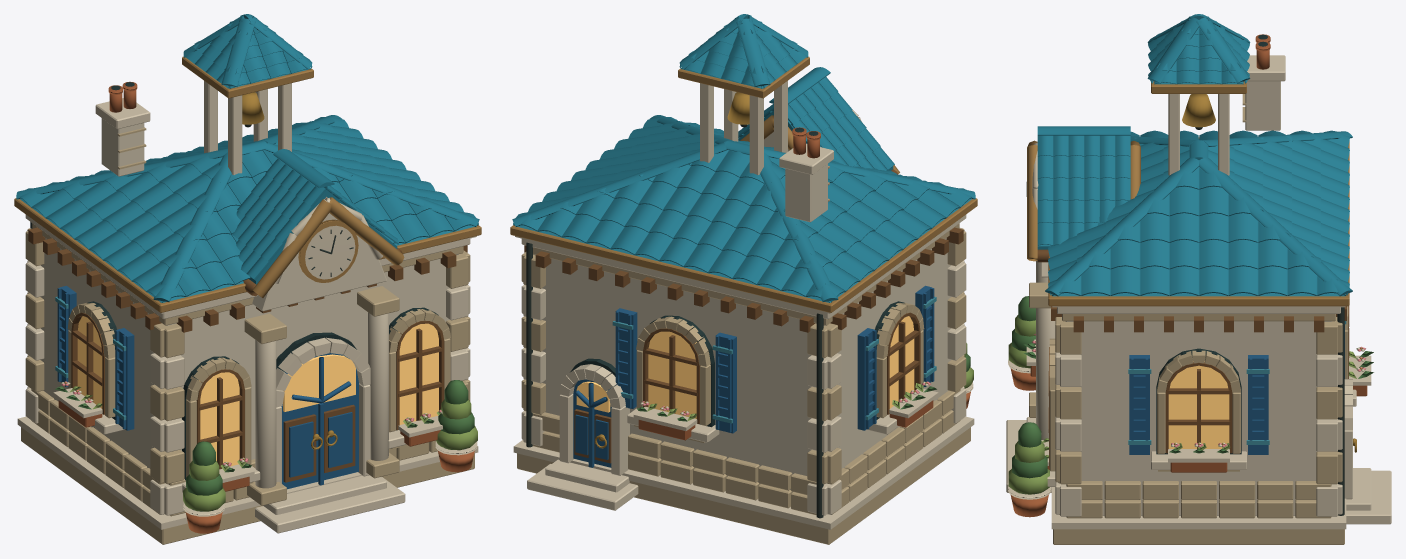
3 views of the same model, side by side, from view 1: azimuth 30°, elevation 25°; view 2: azimuth 150°, elevation 25°; view 3: azimuth 270°, elevation 25° (orthographic). The views are drawn at different scales.
Parts seen in each view (by area): view 1: harbor_civic_hall_geometry, harbor_civic_hall_geometry ceramic; view 2: harbor_civic_hall_geometry, harbor_civic_hall_geometry ceramic; view 3: harbor_civic_hall_geometry, harbor_civic_hall_geometry ceramic.
Boxes of the visible parts, x1,y1,x2,y2 form: harbor_civic_hall_geometry: (14,56,481,544); harbor_civic_hall_geometry ceramic: (16,14,479,420); harbor_civic_hall_geometry: (510,56,977,544); harbor_civic_hall_geometry ceramic: (512,14,975,423); harbor_civic_hall_geometry: (1006,34,1391,544); harbor_civic_hall_geometry ceramic: (1037,14,1352,444).
Bounding box in the file's own units: 1.04 × 1.2 × 0.9278.
